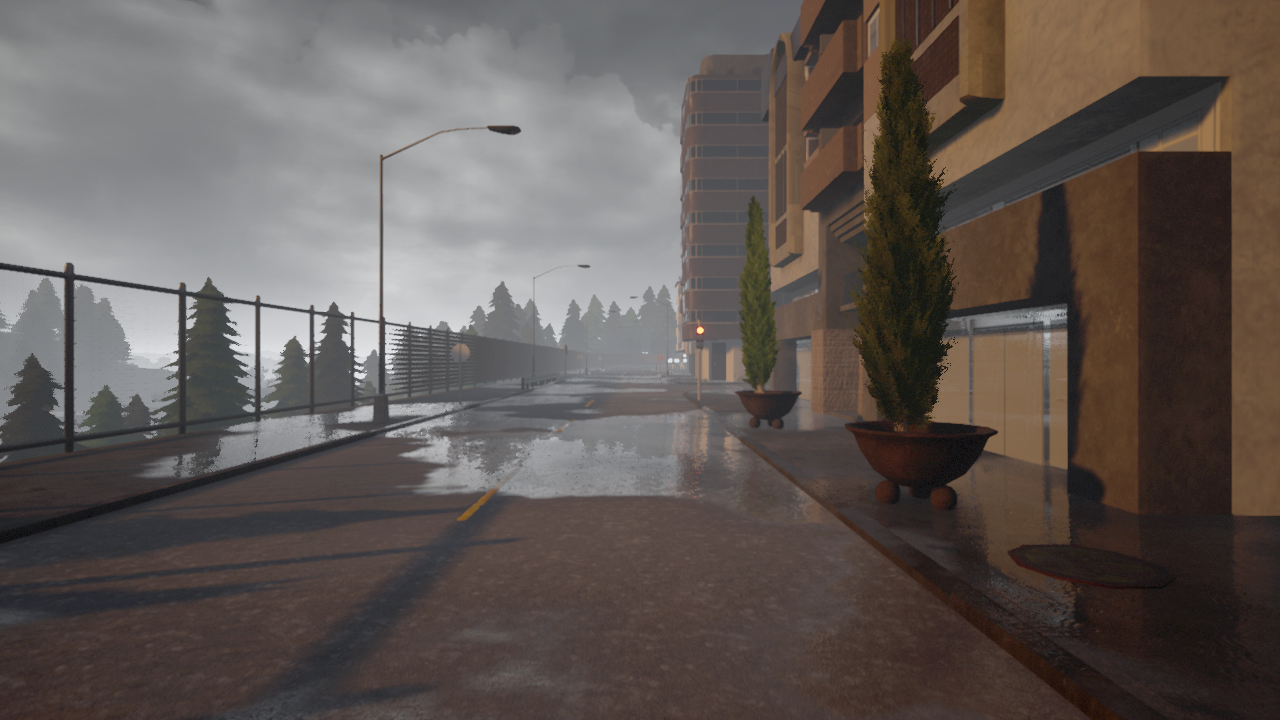red: (694, 324, 704, 350)
